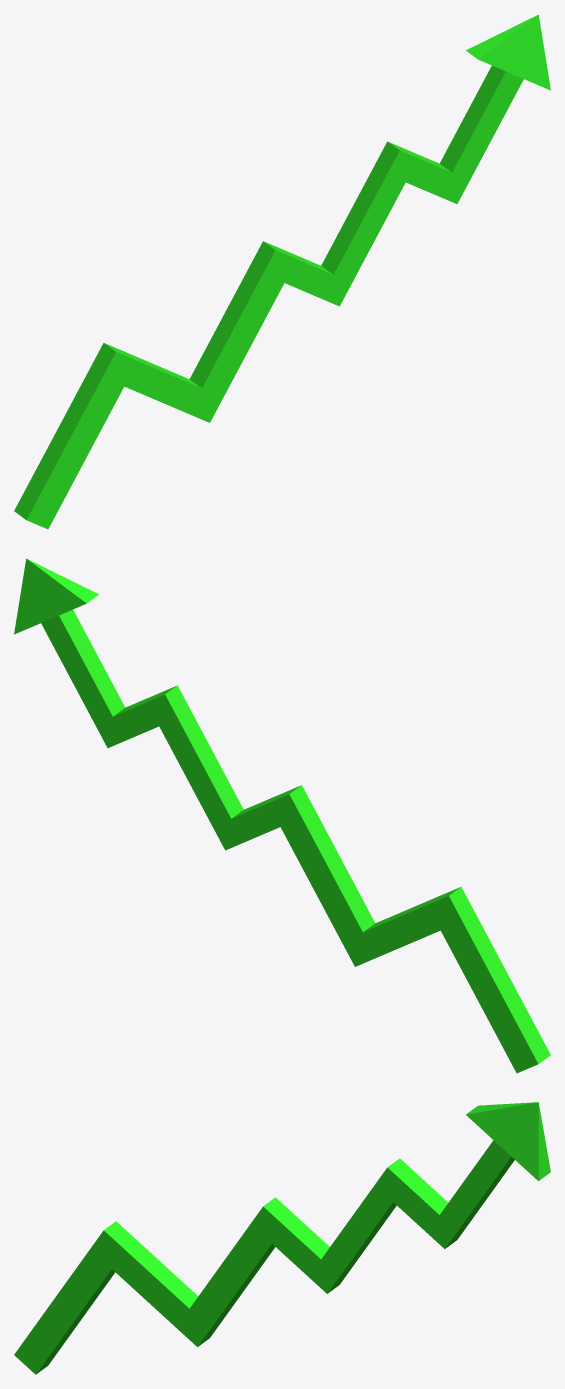
Rendered from arrow.glb.
3 renders of one model, top to bottom at view 1: azimuth 30°, elevation 25°; view 2: azimuth 150°, elevation 25°; view 3: azimuth 330°, elevation 25°, orthographic.
Parts seen in each view (by area): view 1: Cube.003_0; view 2: Cube.003_0; view 3: Cube.003_0.
Boxes of the visible parts, box(x1,y1,x2,y2) form: Cube.003_0: box(14, 14, 550, 529); Cube.003_0: box(14, 558, 550, 1073); Cube.003_0: box(14, 1102, 550, 1374).
Bounding box in the file's own units: 3.63 × 2.58 × 0.1496.
